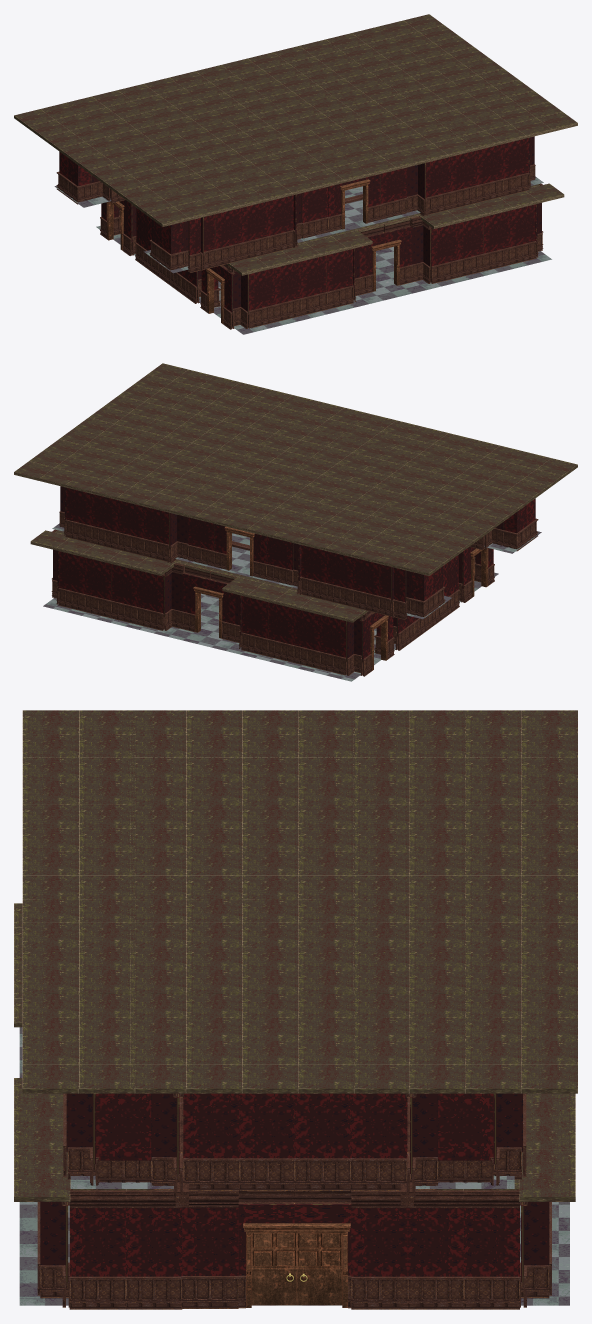
Rendered from wall_2m_combinedCeiling.fbx.
The picture shows the model from 3 angles, top to bottom: view 1: azimuth 30°, elevation 25°; view 2: azimuth 150°, elevation 25°; view 3: azimuth 270°, elevation 25°; orthographic projection. The views are drawn at different scales.
Parts seen in each view (by area): view 1: polySurface512; view 2: polySurface512; view 3: polySurface512.
Part boxes in pixels (x1=…): polySurface512: x1=14, y1=14, x2=577, y2=334; polySurface512: x1=14, y1=363, x2=577, y2=681; polySurface512: x1=14, y1=710, x2=577, y2=1309.
Bounding box in the file's own units: 3180 × 946 × 2005.
